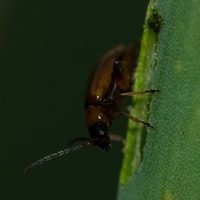insect: (24, 46, 158, 173)
